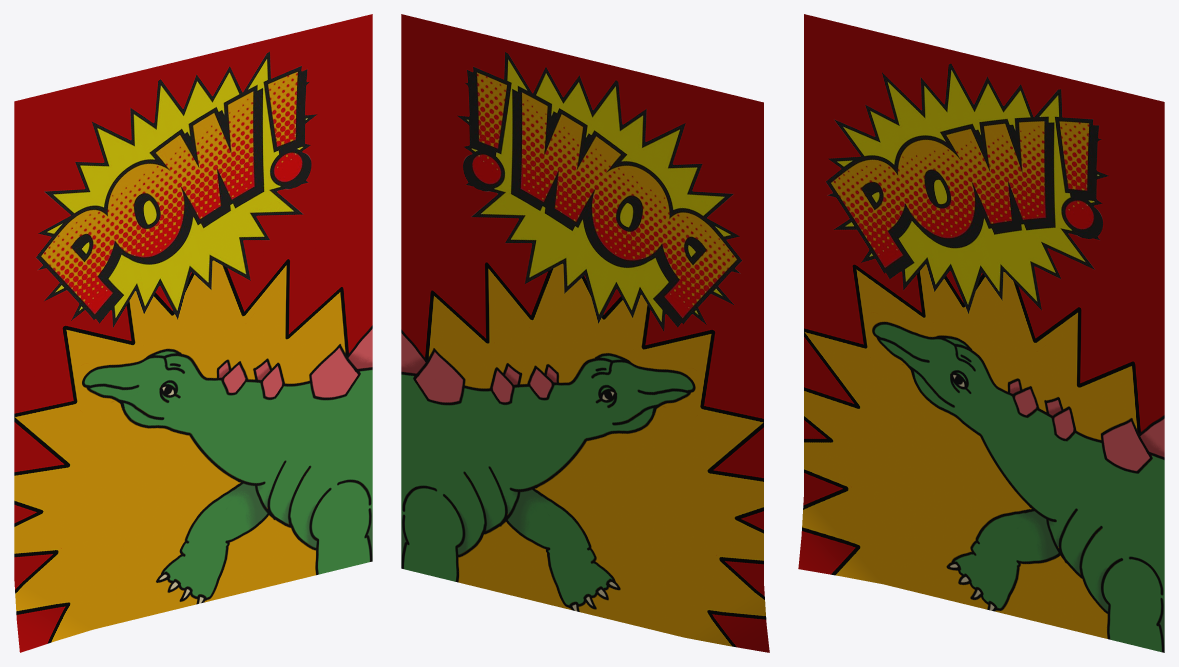
Rendered from PosterALL.fbx.
3 views of the same model, side by side, from view 1: azimuth 30°, elevation 25°; view 2: azimuth 150°, elevation 25°; view 3: azimuth 330°, elevation 25° (orthographic).
Visible parts, largest first — view 1: Poster1; view 2: Poster1; view 3: Poster1.
Boxes of the visible parts, x1,y1,x2,y2 form: Poster1: [14, 14, 372, 652]; Poster1: [401, 14, 769, 652]; Poster1: [798, 14, 1164, 652].
Bounding box in the file's own units: 55.56 × 81.11 × 1.5.
2 materials, 2 textured.
